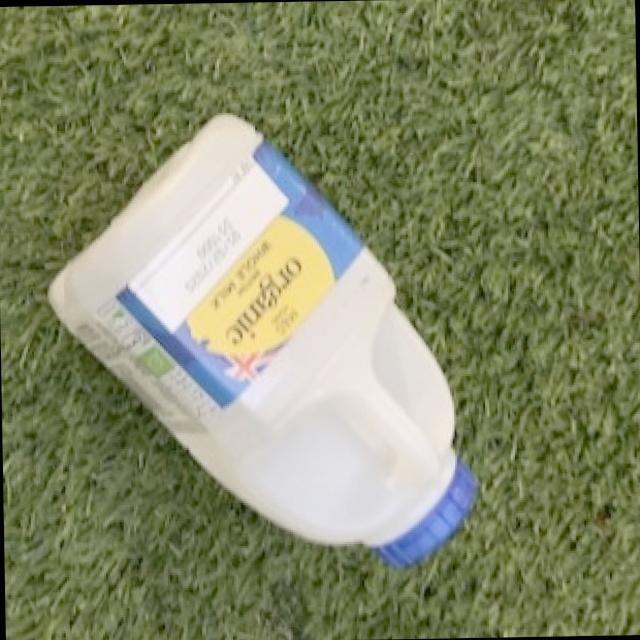HDPE Plastic: (43, 108, 492, 576)
